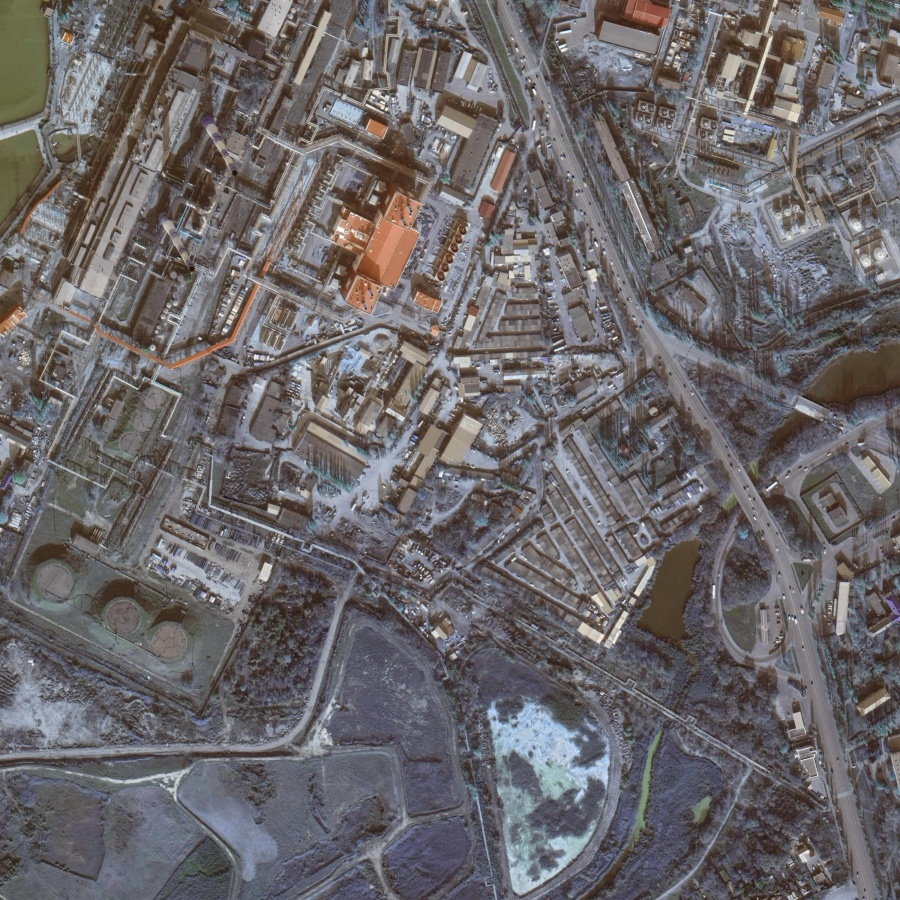PowerPlant: (18, 380, 204, 674)
